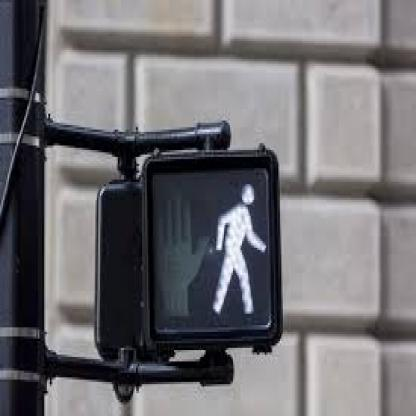Walk: (144, 155, 279, 342)
